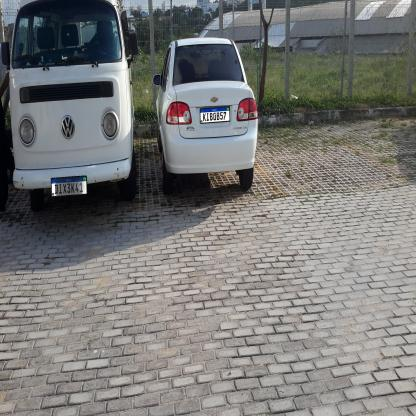PlacaM: (51, 176, 87, 198), (200, 106, 230, 124)
